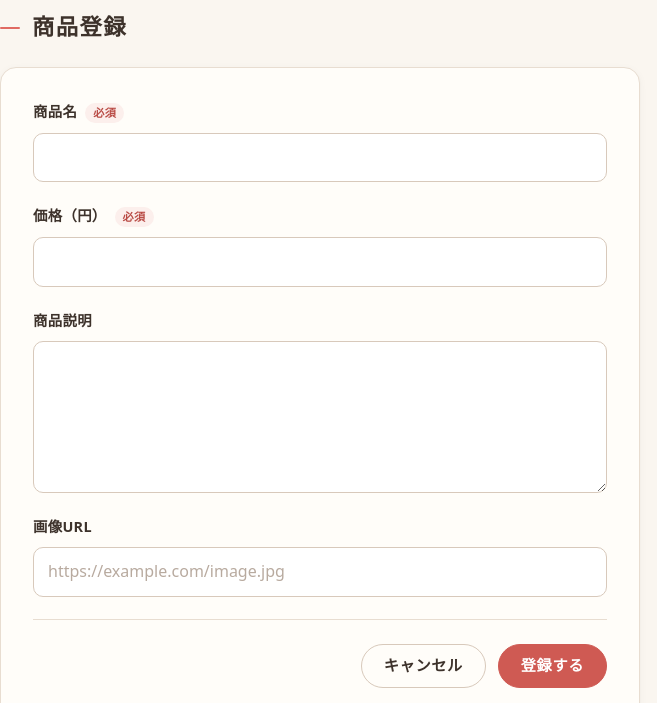
商品登録画面 › 必須項目が未入力の場合はエラーを表示し、送信しない
Click the button "登録する" at [552, 666], box [498,644,607,688]
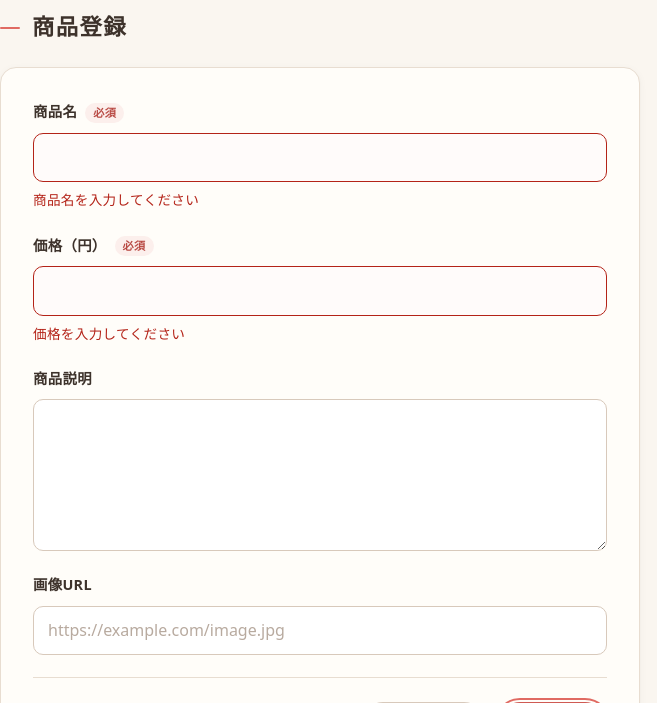
Expected: the text "商品名を入力してください" is shown, [33,190,199,209]
Expected: the text "価格を入力してください" is shown, [33,324,185,343]
